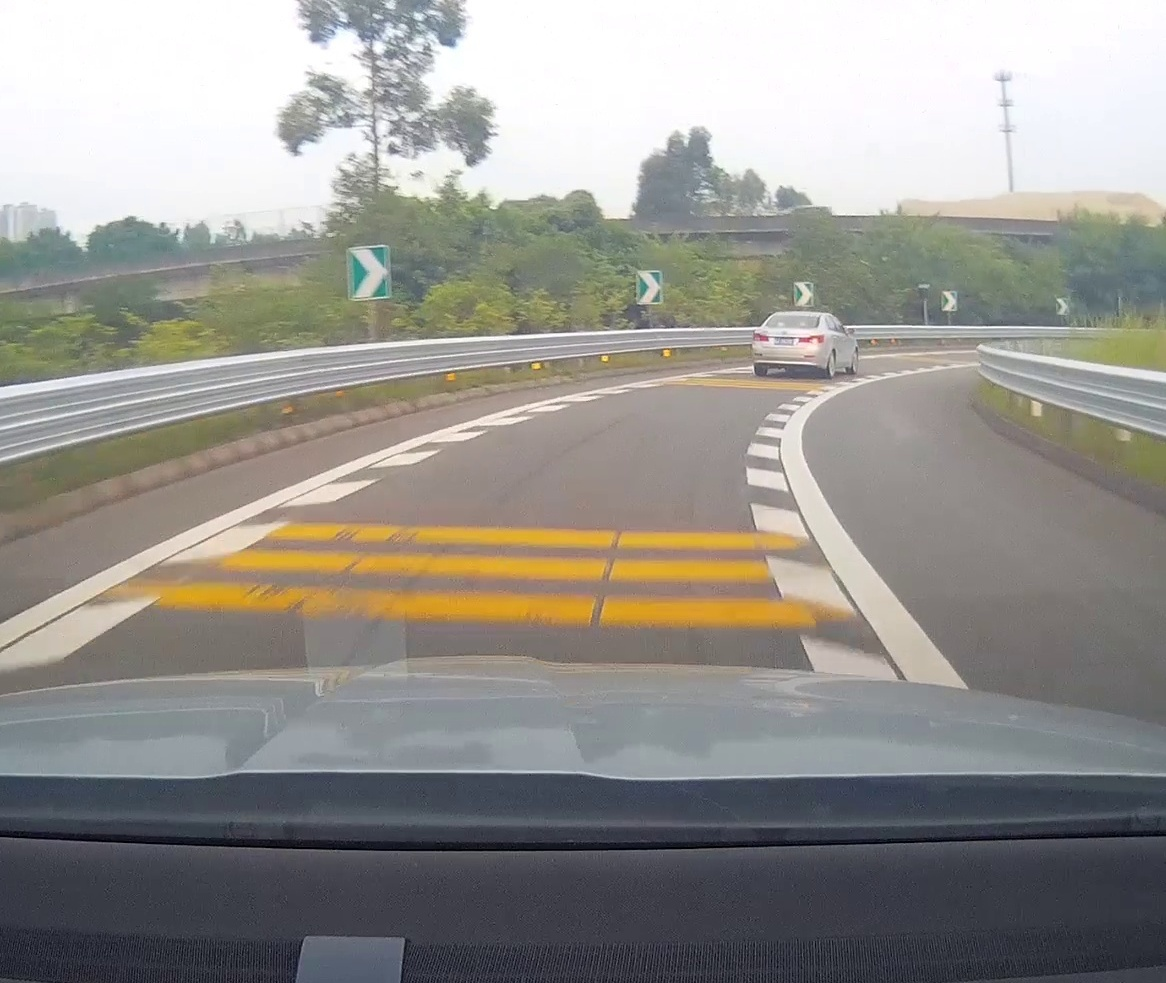L_light: (752, 333, 769, 342)
R_light: (799, 334, 824, 343)
T_light: (786, 315, 798, 318)
day-right: (751, 311, 826, 380)
